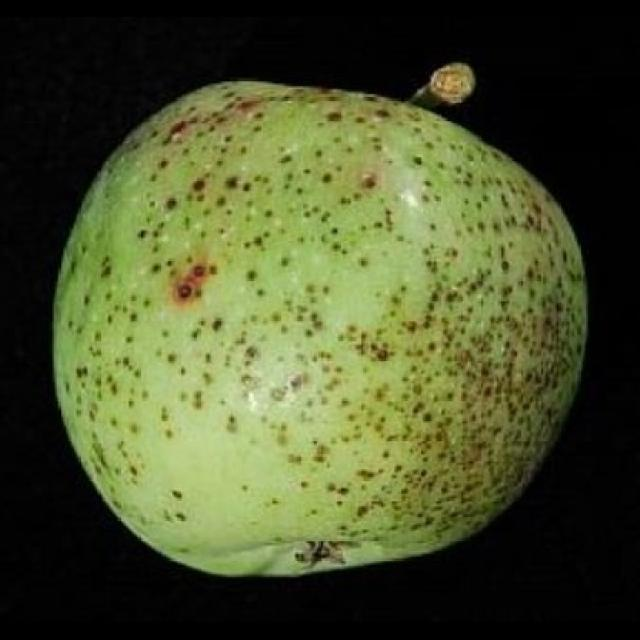Rotten Apple: (46, 74, 592, 578)
